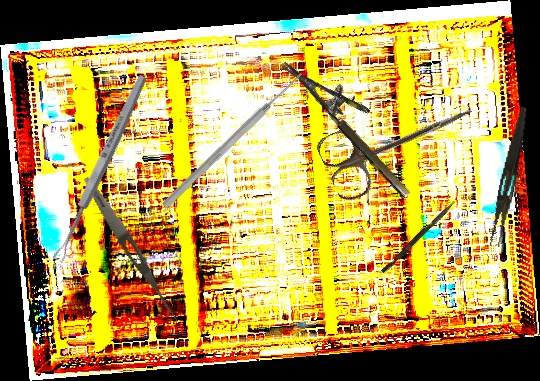Dressing Forceps: (79, 174, 185, 325), (488, 105, 530, 249)
Iris Scissors: (313, 76, 485, 205)
Needle Holder: (280, 41, 430, 201)
Pusher: (160, 69, 306, 211), (380, 197, 457, 276)
Surgical Spoon: (50, 73, 150, 264)
